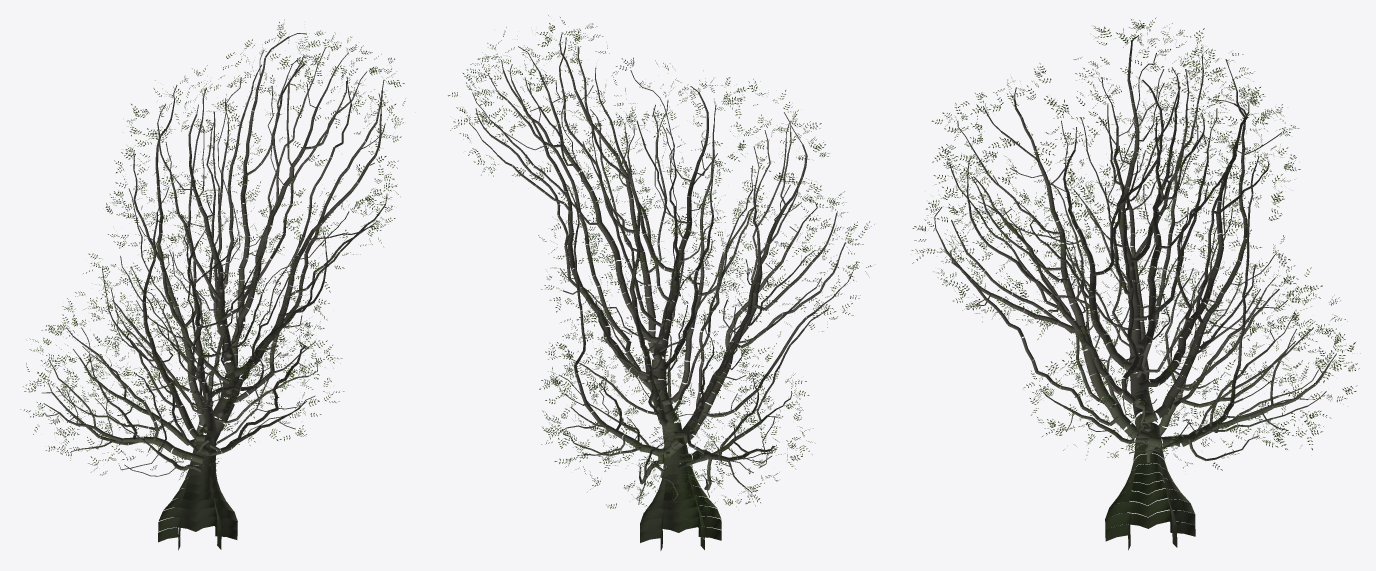
Rendered from SM_Tree_ash_3.glb.
3 renders of one model, left to right at view 1: azimuth 30°, elevation 25°; view 2: azimuth 150°, elevation 25°; view 3: azimuth 270°, elevation 25°, orthographic. The views are drawn at different scales.
Visible parts, largest first — view 1: SM_Tree_ash_3; view 2: SM_Tree_ash_3; view 3: SM_Tree_ash_3.
Part boxes in pixels (box(x1,y1,x2,y2)): SM_Tree_ash_3: box(20, 19, 405, 550); SM_Tree_ash_3: box(448, 15, 874, 550); SM_Tree_ash_3: box(911, 17, 1360, 550).
Bounding box in the file's own units: 10.76 × 14.23 × 10.76.
